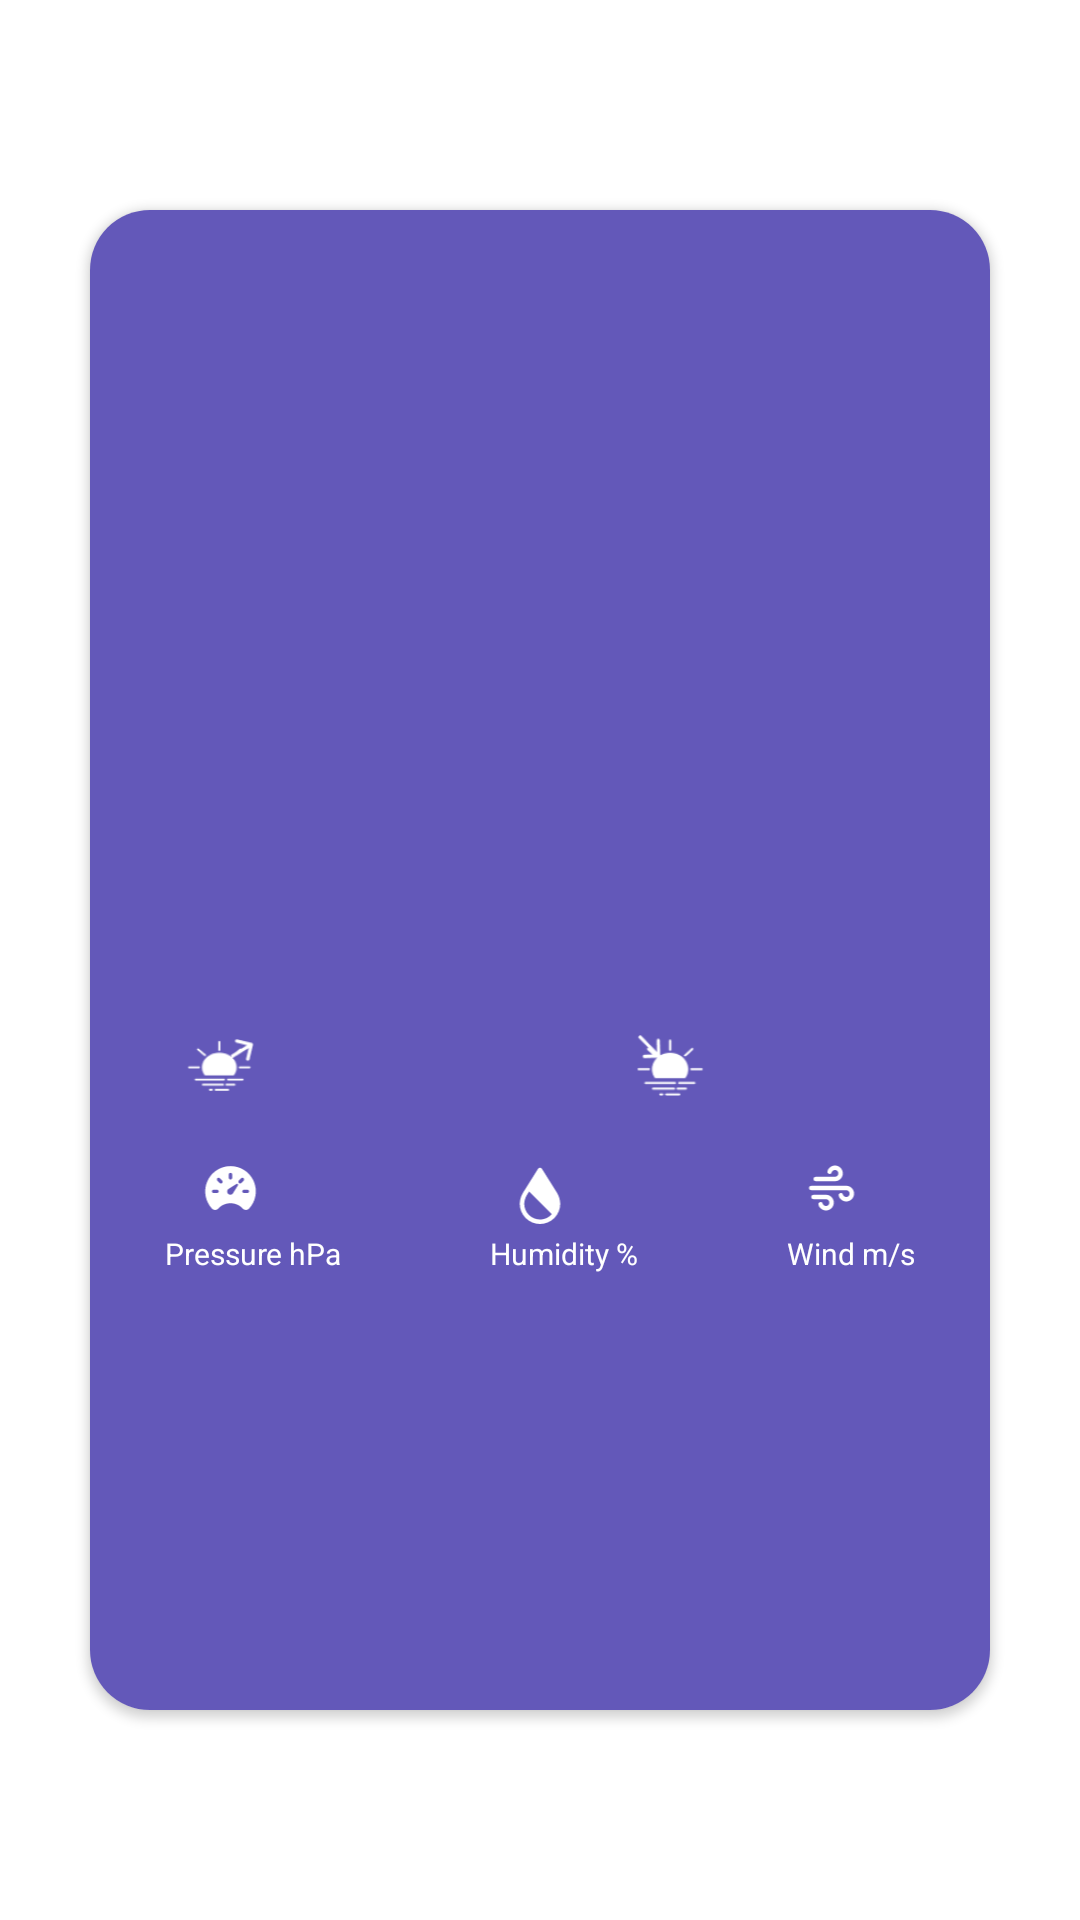

Screen size 1080px×1920px. Icon name, then its box in pixels as (x1, y1, x2, y2):
ion speedometer: (205, 1166, 256, 1210)
sunrise: (188, 1039, 254, 1091)
sunset: (637, 1035, 703, 1096)
